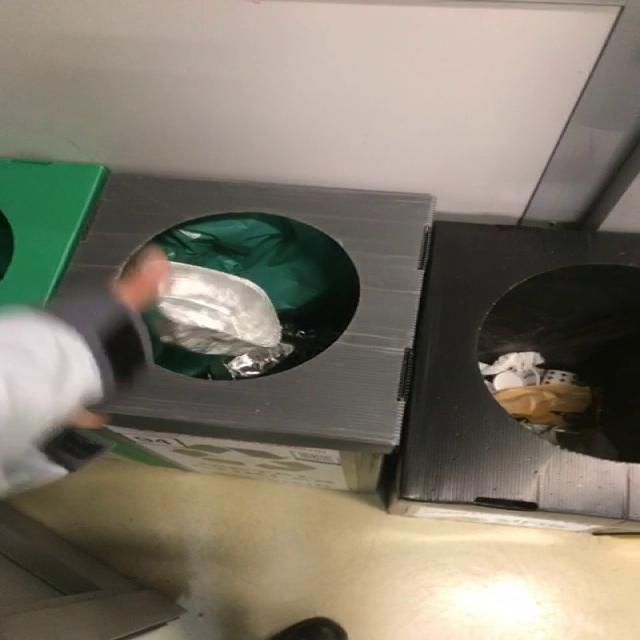bin: (53, 174, 640, 520)
metal: (157, 262, 281, 356)
